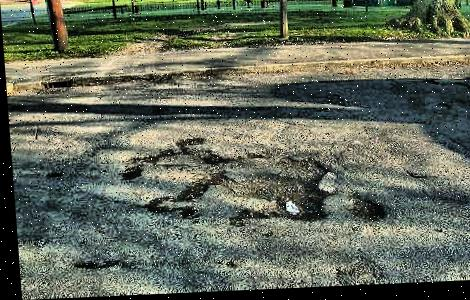pothole: (224, 154, 335, 229), (168, 172, 225, 202), (340, 196, 385, 226)
